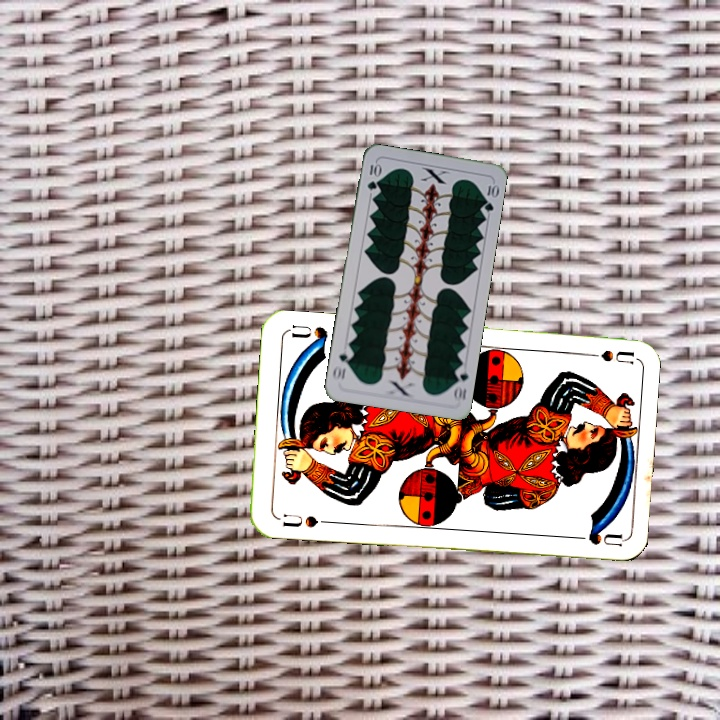G10: (450, 363, 471, 404), (363, 158, 382, 193)
SU: (273, 509, 333, 530), (575, 346, 634, 366)
